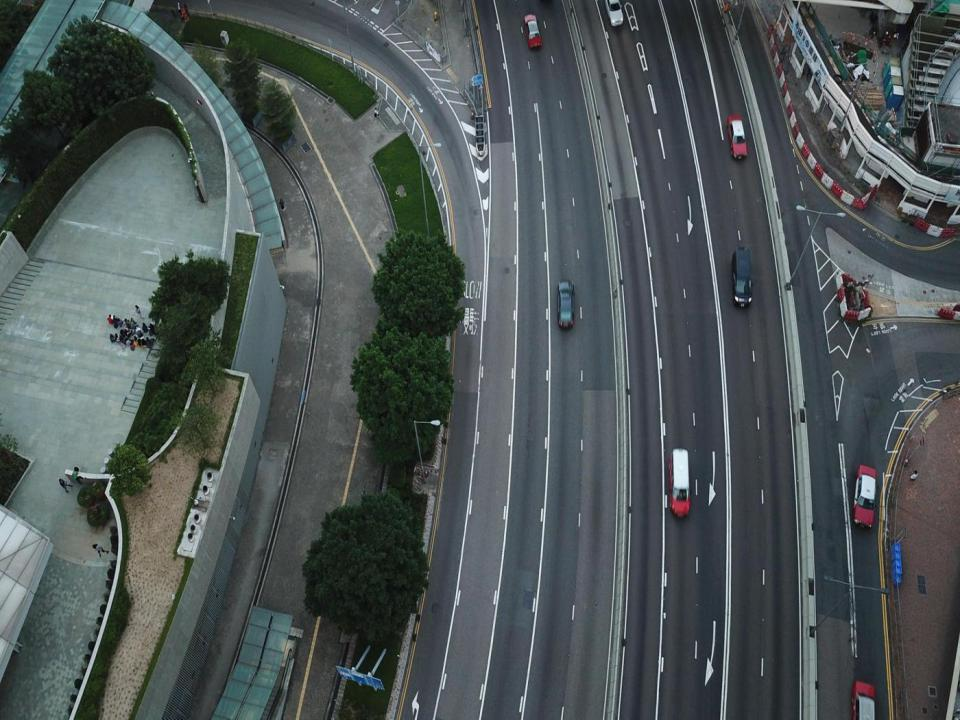car: (854, 464, 876, 530), (727, 115, 747, 161), (852, 679, 875, 719), (601, 0, 626, 26), (524, 14, 542, 49)
van: (668, 449, 690, 518), (731, 248, 752, 308), (556, 277, 575, 332)
